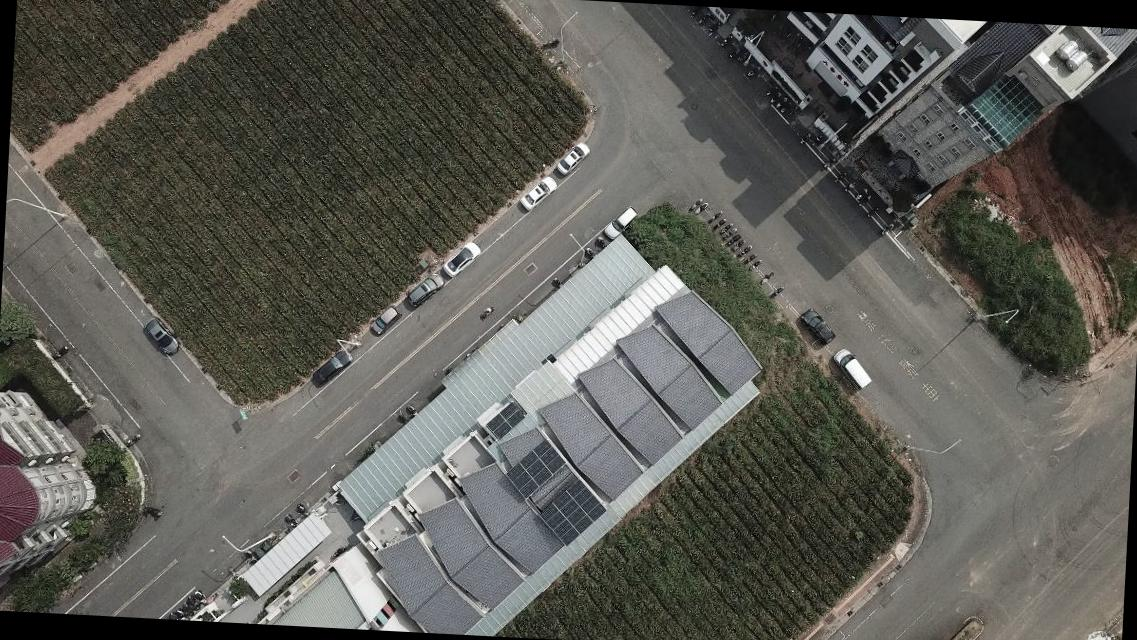vehicle: (831, 349, 875, 391), (312, 347, 353, 388), (142, 316, 180, 358), (406, 270, 444, 308), (518, 174, 556, 211), (444, 242, 482, 278), (797, 309, 836, 343), (554, 141, 590, 177), (605, 206, 637, 240), (368, 304, 400, 336)
